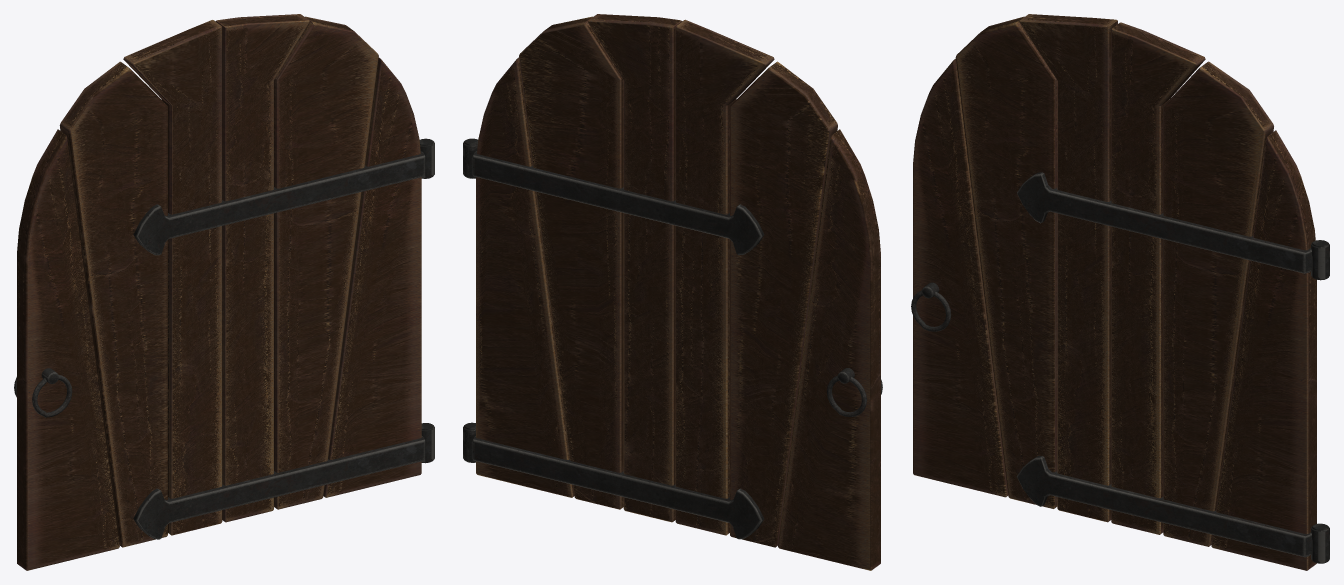
Rendered from door.glb.
The picture shows the model from 3 angles, left to right: view 1: azimuth 30°, elevation 25°; view 2: azimuth 150°, elevation 25°; view 3: azimuth 330°, elevation 25°; orthographic projection.
Visible parts, largest first — view 1: door; view 2: door; view 3: door.
Part boxes in pixels (x1,y1,x2,y2): door: [14, 14, 434, 570]; door: [463, 14, 882, 570]; door: [911, 14, 1329, 570].
Bounding box in the file's own units: 5.99 × 6.91 × 0.56.
2 materials, 2 textured.
